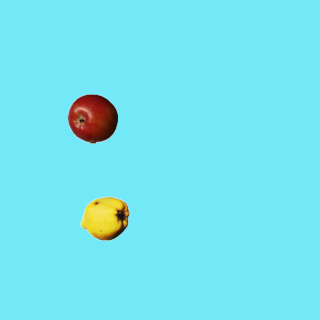Apple Braeburn: (67, 93, 117, 143)
Quince: (79, 193, 129, 243)
